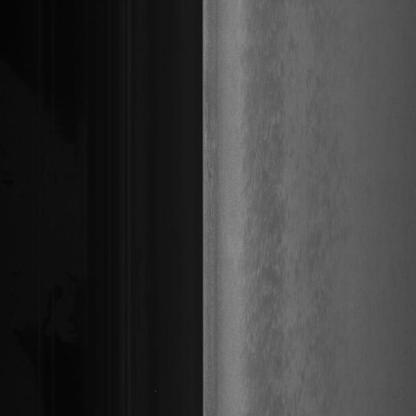silk_spot: (232, 80, 286, 323)
